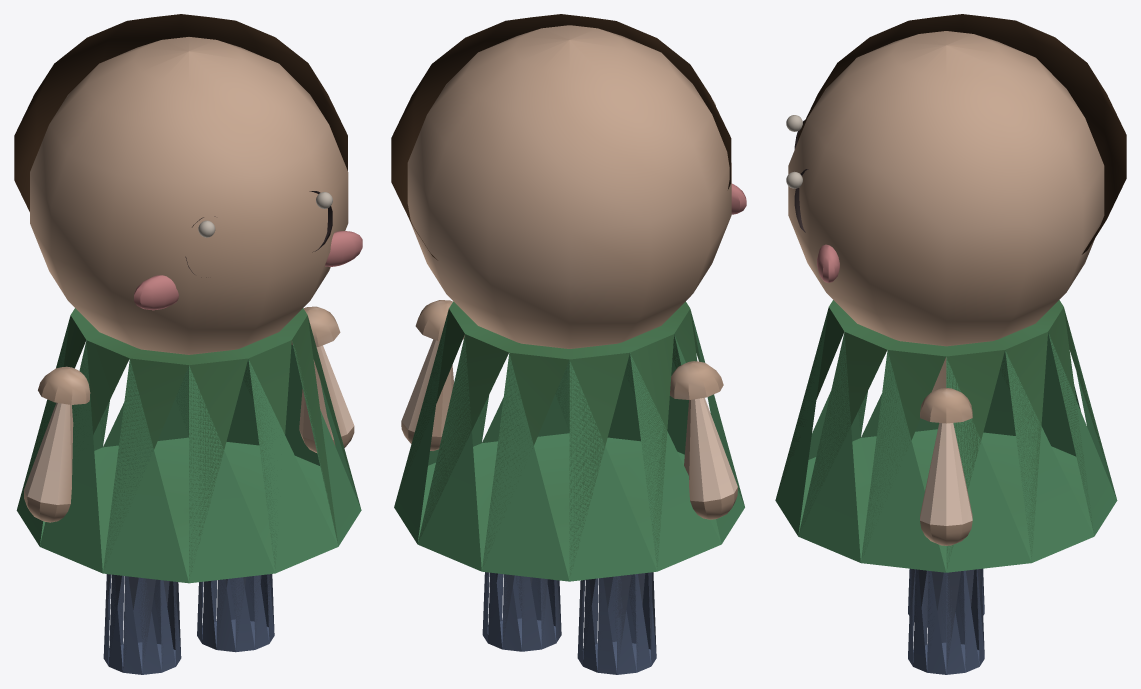
File: p7b4fca23.glb
The picture shows the model from 3 angles, left to right: view 1: azimuth 30°, elevation 25°; view 2: azimuth 150°, elevation 25°; view 3: azimuth 270°, elevation 25°; orthographic projection. The views are drawn at different scales.
Visible parts, largest first — view 1: pet_p7b4fca23; view 2: pet_p7b4fca23; view 3: pet_p7b4fca23.
Boxes of the visible parts, x1,y1,x2,y2 form: pet_p7b4fca23: (14, 14, 362, 674); pet_p7b4fca23: (391, 14, 746, 674); pet_p7b4fca23: (775, 14, 1126, 674).
Bounding box in the file's own units: 0.3464 × 0.625 × 0.3287.
